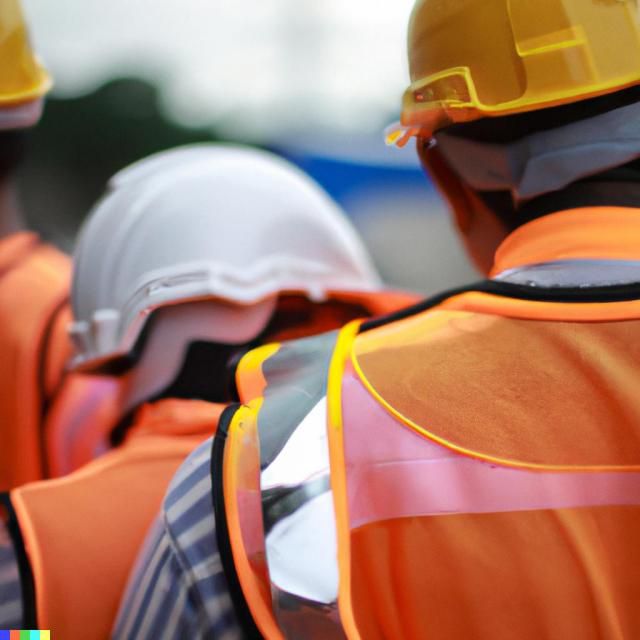Reflective-Jacket: (206, 289, 640, 632), (3, 422, 225, 638)
Safety-Helmet: (59, 141, 422, 346), (388, 3, 638, 148), (0, 2, 62, 116)
